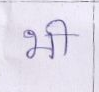i_matra: (56, 20, 72, 54)
